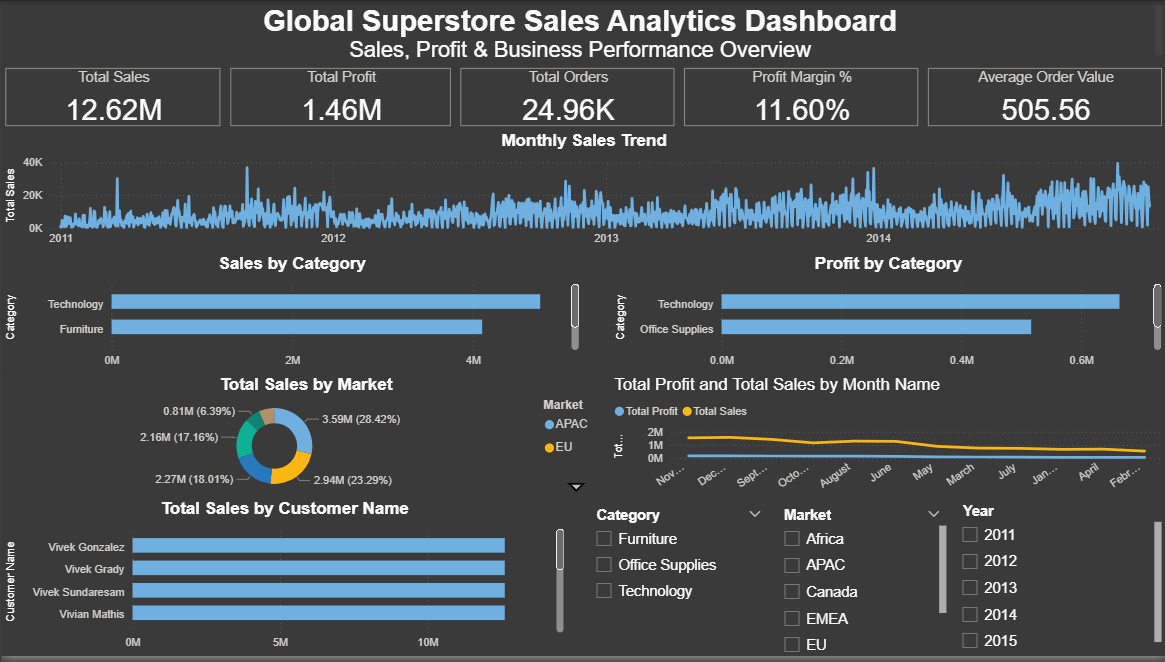

What the dashboard file says about the page in this screenshot:
{"tool":"powerbi","page":{"name":"Executive Overview","canvas":[1280,720],"ordinal":0},"visuals":[{"type":"cardVisual","fields":{"Data":["vw_sales_summary.Total Sales"]},"box":[0,123.5,247,123.5],"z":0},{"type":"cardVisual","fields":{"Data":["vw_sales_summary.Total Profit"]},"box":[247,123.5,252.5,123.5],"z":1000},{"type":"cardVisual","fields":{"Data":["vw_sales_summary.Total Orders"]},"box":[499.5,123.5,245.6,123.5],"z":2000},{"type":"cardVisual","fields":{"Data":["vw_sales_summary.Profit Margin %"]},"box":[745.1,123.5,267.6,123.5],"z":3000},{"type":"cardVisual","fields":{"Data":["vw_sales_summary.Average Order Value"]},"box":[1012.7,123.5,267.6,123.5],"z":4000},{"type":"lineChart","title":"Monthly Sales Trend","fields":{"Y":["vw_sales_summary.Total Sales"],"Category":["DateTable.Date"]},"box":[27.4,458.3,345.8,225],"z":5000},{"type":"clusteredBarChart","title":"Sales by Category","fields":{"Category":["vw_sales_summary.Category"],"Y":["vw_sales_summary.Total Sales"]},"box":[373.2,458.3,296.4,225],"z":6000},{"type":"actionButton","box":[0,0,100,40],"z":7000},{"type":"clusteredBarChart","title":"Profit by Category","fields":{"Category":["vw_sales_summary.Category"],"Y":["vw_sales_summary.Total Profit"]},"box":[247,262.1,218.2,174.3],"z":8000},{"type":"donutChart","fields":{"Category":["vw_sales_summary.Market"],"Y":["vw_sales_summary.Total Sales"]},"box":[669.6,458.3,319.7,225],"z":9000},{"type":"clusteredBarChart","fields":{"Category":["vw_costumer_summary.Customer Name"],"Y":["vw_sales_summary.Total Sales"]},"box":[639.5,262.1,251.1,174.3],"z":10000},{"type":"advancedSlicerVisual","fields":{"Values":["DateTable.Year"]},"box":[989.4,436.4,267.6,247],"z":11000},{"type":"slicer","fields":{"Values":["vw_sales_summary.Category"]},"box":[455.6,248.4,157.8,174.3],"z":12000},{"type":"slicer","fields":{"Values":["vw_sales_summary.Market"]},"box":[0,274.4,200.3,123.5],"z":13000},{"type":"qnaVisual","title":"Global Superstore Sales Analytics Dashboard","box":[0,0,1280.3,123.5],"z":14000},{"type":"lineChart","fields":{"Category":["DateTable.Month Name"],"Y":["vw_sales_summary.Total Profit","vw_sales_summary.Total Sales"]},"box":[1013,262,267,174],"z":15000}]}

Visuals, with their boxes in screenshot pixels (x1, y1, x2, y2), scaled from the page's 1280x720 canvas onto the 1165x662 screenshot:
cardVisual - vw_sales_summary.Total Sales: bbox=(0, 114, 225, 227)
cardVisual - vw_sales_summary.Total Profit: bbox=(225, 114, 455, 227)
cardVisual - vw_sales_summary.Total Orders: bbox=(455, 114, 678, 227)
cardVisual - vw_sales_summary.Profit Margin %: bbox=(678, 114, 922, 227)
cardVisual - vw_sales_summary.Average Order Value: bbox=(922, 114, 1164, 227)
"Monthly Sales Trend" lineChart: bbox=(25, 421, 340, 628)
"Sales by Category" clusteredBarChart: bbox=(340, 421, 609, 628)
actionButton: bbox=(0, 0, 91, 37)
"Profit by Category" clusteredBarChart: bbox=(225, 241, 423, 401)
donutChart - vw_sales_summary.Market x vw_sales_summary.Total Sales: bbox=(609, 421, 900, 628)
clusteredBarChart - vw_costumer_summary.Customer Name x vw_sales_summary.Total Sales: bbox=(582, 241, 811, 401)
advancedSlicerVisual - DateTable.Year: bbox=(901, 401, 1144, 628)
slicer - vw_sales_summary.Category: bbox=(415, 228, 558, 389)
slicer - vw_sales_summary.Market: bbox=(0, 252, 182, 366)
"Global Superstore Sales Analytics Dashboard" qnaVisual: bbox=(0, 0, 1164, 114)
lineChart - DateTable.Month Name x vw_sales_summary.Total Profit: bbox=(922, 241, 1164, 401)
